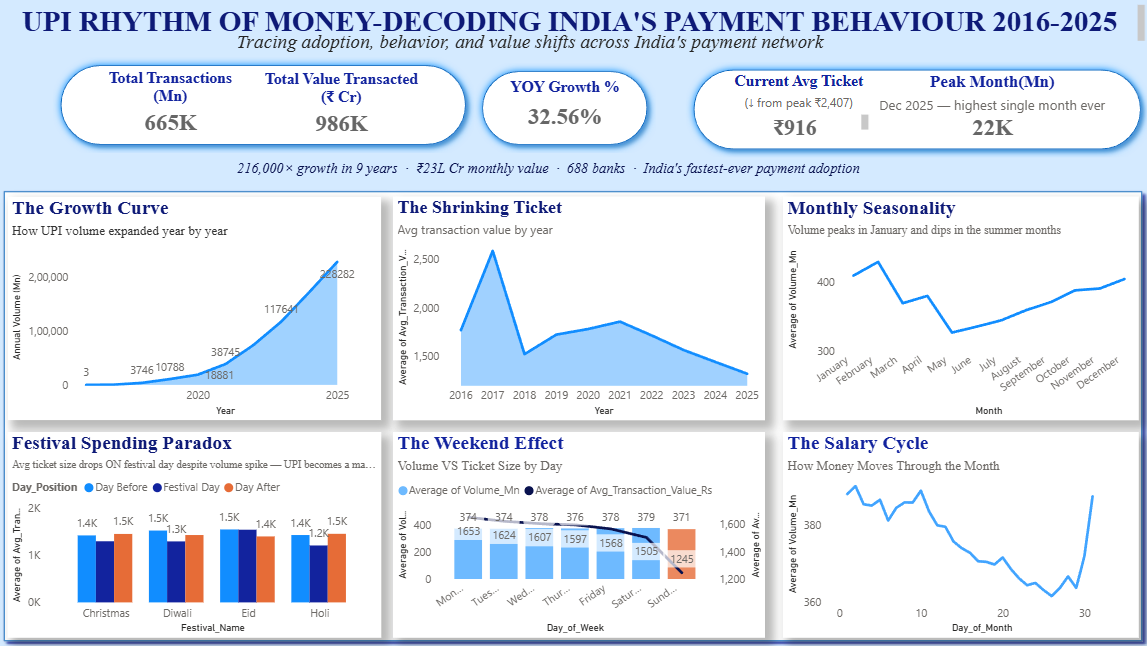

Layout of this report page (visuals, bound fields, positions):
{"tool":"powerbi","page":{"name":"Master Dashboard","canvas":[1280,720],"ordinal":0},"visuals":[{"type":"shape","box":[530,70,201.7,100],"z":0},{"type":"shape","box":[765,68.3,515,106.7],"z":1000},{"type":"shape","box":[61.7,63.3,468.3,106.7],"z":2000},{"type":"shape","box":[0,205,1280,515],"z":3000},{"type":"textbox","box":[0,0,1280,56.7],"z":4000},{"type":"textbox","box":[261.7,28.3,768.3,36.7],"z":5000},{"type":"card","title":"Total Transactions (Mn)","fields":{"Values":["Sum(UPI_Monthly.Volume_Mn)"]},"box":[100,76.7,185,78.3],"z":6000},{"type":"card","title":"Total Value Transacted (₹ Cr)","fields":{"Values":["UPI_Monthly.Total Value Cr"]},"box":[285,78.3,195,78.3],"z":7000},{"type":"areaChart","title":"The Growth Curve","fields":{"Category":["UPI_Monthly.Year"],"Y":["UPI_Monthly.Annual Volume (Mn)"]},"box":[11.7,218.3,415,248.3],"z":8000},{"type":"areaChart","title":"The Shrinking Ticket","fields":{"Category":["UPI_Monthly.Month.Variation.Date Hierarchy.Year"],"Y":["Avg(UPI_Monthly.Avg_Transaction_Value_Rs)"]},"box":[440,218.3,413.3,248.3],"z":9000},{"type":"clusteredColumnChart","title":"Festival Spending Paradox","fields":{"Category":["festival_paradox.Festival_Name"],"Y":["Avg(festival_paradox.Avg_Transactional_Value_Rs)"],"Series":["festival_paradox.Day_Position"]},"box":[11.7,480,415,228.3],"z":10000},{"type":"lineClusteredColumnComboChart","title":"The Weekend Effect","fields":{"Y":["Avg(Daily_Statistics.Volume_Mn)"],"Y2":["Avg(Daily_Statistics.Avg_Transaction_Value_Rs)"],"Category":["Daily_Statistics.Day_of_Week"]},"box":[440,480,413.3,228.3],"z":11000},{"type":"lineChart","title":"Monthly Seasonality","fields":{"Category":["Daily_Statistics.Date.Variation.Date Hierarchy.Month"],"Y":["Avg(Daily_Statistics.Volume_Mn)"]},"box":[873.3,218.3,395,248.3],"z":12000},{"type":"lineChart","title":"The Salary Cycle","fields":{"Category":["Daily_Statistics.Day_of_Month"],"Y":["Avg(Daily_Statistics.Volume_Mn)"]},"box":[873.3,480,395,228.3],"z":13000},{"type":"textbox","title":"Current Avg Ticket","box":[808.3,80,165,78.3],"z":14000},{"type":"textbox","box":[261.7,171.7,711.7,33.3],"z":16000},{"type":"card","title":"Peak Month(Mn)","fields":{"Values":["Daily_Statistics.Peak Month Volume"]},"box":[973.3,80,265,76.7],"z":17000},{"type":"card","title":"YOY Growth %","fields":{"Values":["UPI_Monthly.YoY Growth %"]},"box":[560,86.7,141.7,65],"z":18000}]}

Visuals, with their boxes in screenshot pixels (x1, y1, x2, y2), scaled from the page's 1280x720 canvas onto the 1147x646 screenshot:
shape: (x1=475, y1=63, x2=656, y2=153)
shape: (x1=686, y1=61, x2=1146, y2=157)
shape: (x1=55, y1=57, x2=475, y2=153)
shape: (x1=0, y1=184, x2=1146, y2=645)
textbox: (x1=0, y1=0, x2=1146, y2=51)
textbox: (x1=235, y1=25, x2=923, y2=58)
"Total Transactions (Mn)" card: (x1=90, y1=69, x2=255, y2=139)
"Total Value Transacted (₹ Cr)" card: (x1=255, y1=70, x2=430, y2=141)
"The Growth Curve" areaChart: (x1=10, y1=196, x2=382, y2=419)
"The Shrinking Ticket" areaChart: (x1=394, y1=196, x2=765, y2=419)
"Festival Spending Paradox" clusteredColumnChart: (x1=10, y1=431, x2=382, y2=636)
"The Weekend Effect" lineClusteredColumnComboChart: (x1=394, y1=431, x2=765, y2=636)
"Monthly Seasonality" lineChart: (x1=783, y1=196, x2=1137, y2=419)
"The Salary Cycle" lineChart: (x1=783, y1=431, x2=1137, y2=636)
"Current Avg Ticket" textbox: (x1=724, y1=72, x2=872, y2=142)
textbox: (x1=235, y1=154, x2=872, y2=184)
"Peak Month(Mn)" card: (x1=872, y1=72, x2=1110, y2=141)
"YOY Growth %" card: (x1=502, y1=78, x2=629, y2=136)
